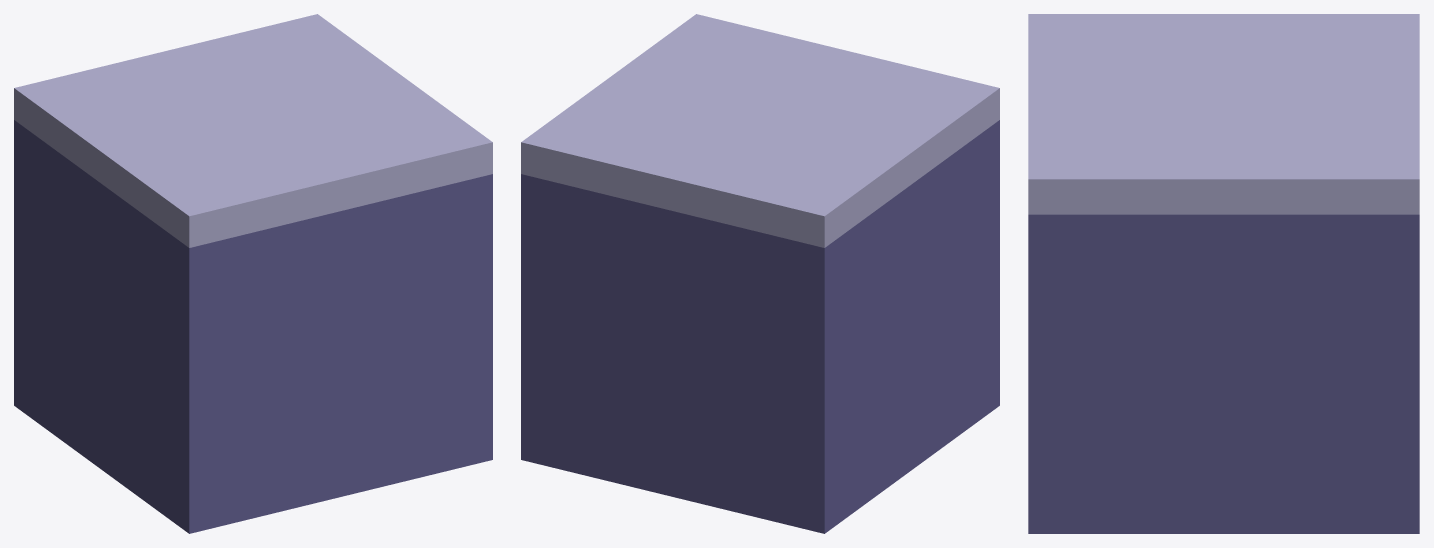
3 views of the same model, side by side, from view 1: azimuth 30°, elevation 25°; view 2: azimuth 150°, elevation 25°; view 3: azimuth 270°, elevation 25° (orthographic). The views are drawn at different scales.
Parts seen in each view (by area): view 1: floor; view 2: floor; view 3: floor.
Boxes of the visible parts, x1,y1,x2,y2 form: floor: (14, 14, 492, 533); floor: (521, 14, 999, 533); floor: (1028, 14, 1419, 533).
Size of the model in its own units: 1 by 1 by 1.
